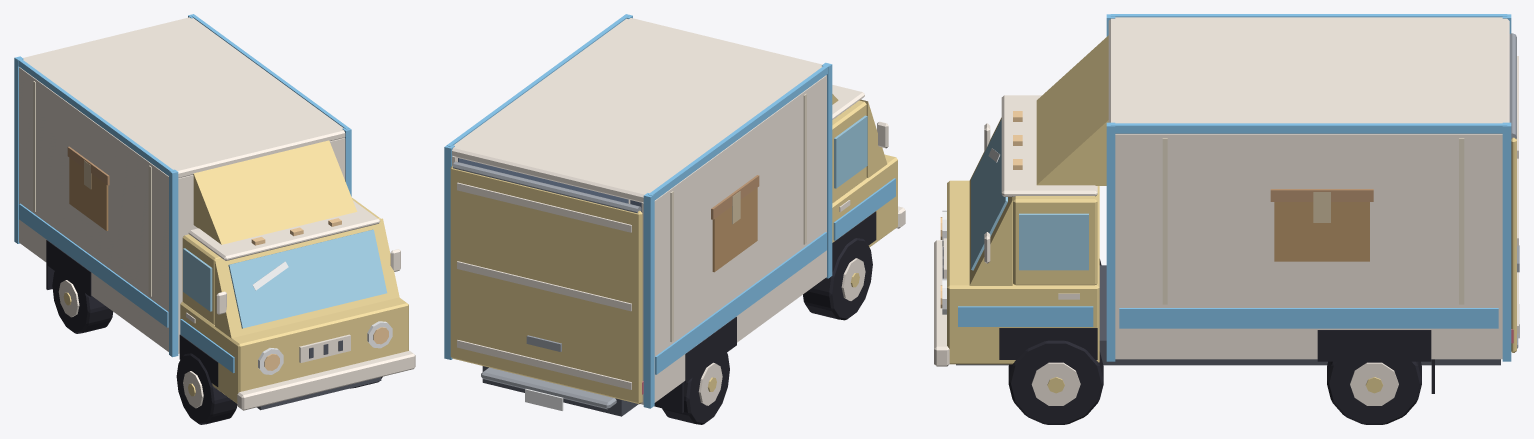
File: CleanACat_Prop_DeliveryTruck.fbx
3 renders of one model, left to right at view 1: azimuth 30°, elevation 25°; view 2: azimuth 150°, elevation 25°; view 3: azimuth 270°, elevation 25°, orthographic. The views are drawn at different scales.
Parts seen in each view (by area): view 1: CleanACat_Prop_DeliveryTruck_Body, CleanACat_Prop_DeliveryTruck_FR_Wheel, CleanACat_Prop_DeliveryTruck_BR_Wheel; view 2: CleanACat_Prop_DeliveryTruck_Body, CleanACat_Prop_DeliveryTruck_Door, CleanACat_Prop_DeliveryTruck_FR_Wheel, CleanACat_Prop_DeliveryTruck_BR_Wheel; view 3: CleanACat_Prop_DeliveryTruck_Body, CleanACat_Prop_DeliveryTruck_FL_Wheel, CleanACat_Prop_DeliveryTruck_BL_Wheel, CleanACat_Prop_DeliveryTruck_Door.
Boxes of the visible parts, x1,y1,x2,y2 form: CleanACat_Prop_DeliveryTruck_Body: (14,14,415,410); CleanACat_Prop_DeliveryTruck_FR_Wheel: (176,353,237,424); CleanACat_Prop_DeliveryTruck_BR_Wheel: (52,271,113,333); CleanACat_Prop_DeliveryTruck_Body: (444,14,905,416); CleanACat_Prop_DeliveryTruck_Door: (450,161,642,404); CleanACat_Prop_DeliveryTruck_FR_Wheel: (803,238,872,320); CleanACat_Prop_DeliveryTruck_BR_Wheel: (662,353,729,424); CleanACat_Prop_DeliveryTruck_Body: (934,14,1519,393); CleanACat_Prop_DeliveryTruck_FL_Wheel: (1008,340,1103,424); CleanACat_Prop_DeliveryTruck_BL_Wheel: (1327,361,1421,424); CleanACat_Prop_DeliveryTruck_Door: (1509,33,1519,352).
Size of the model in its own units: 6.24 by 7.63 by 13.43.
Materials: 1 (1 with a texture image).
